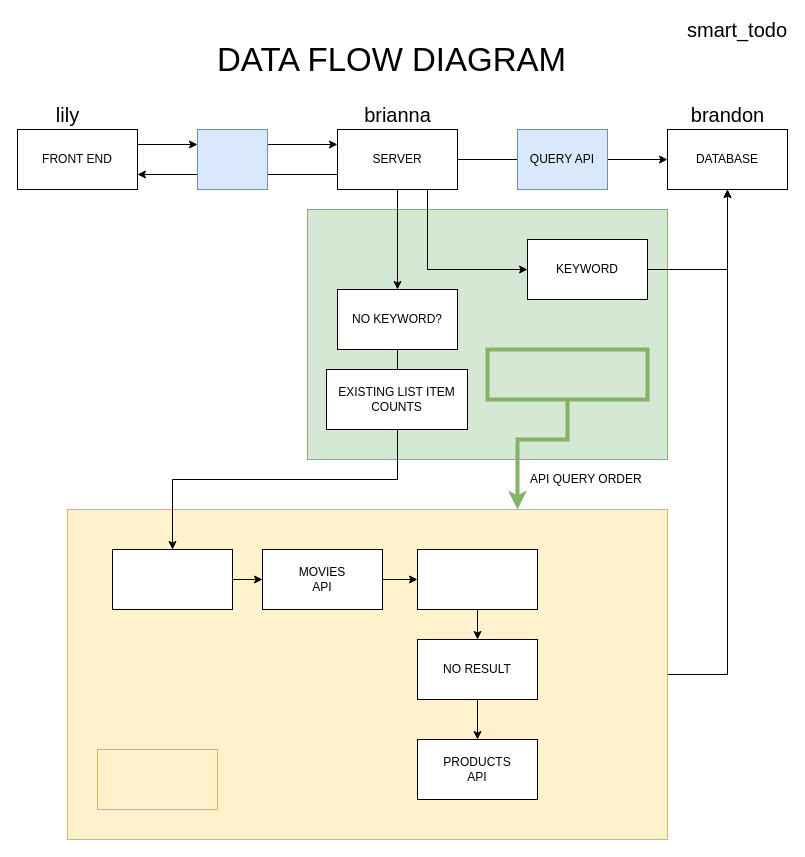
This 805x857 diagram has some shape labels left out. Here are the shapes that lost their labels. From the top down, the box of each, then its label:
(196, 128, 268, 190): REST API
(485, 347, 649, 401): PRE-API CONTEXT DETECTION
(112, 548, 232, 610): BOOKS API
(416, 548, 538, 610): DINING API
(96, 748, 218, 810): API QUERY
